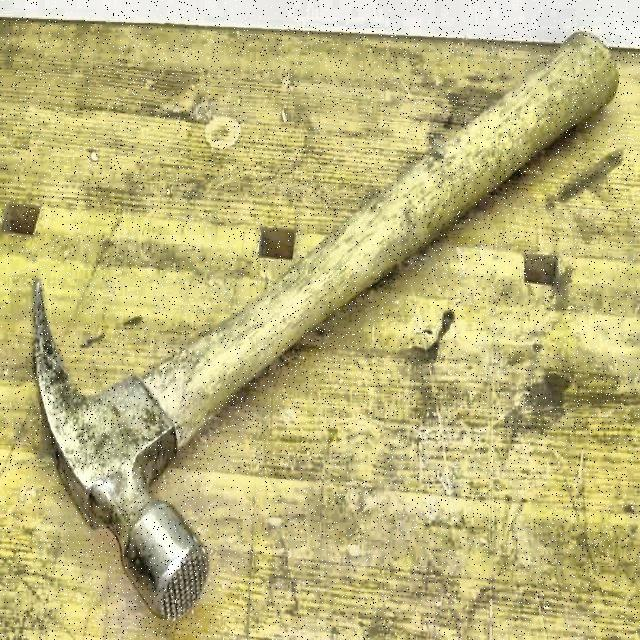hammer: (34, 27, 620, 625)
